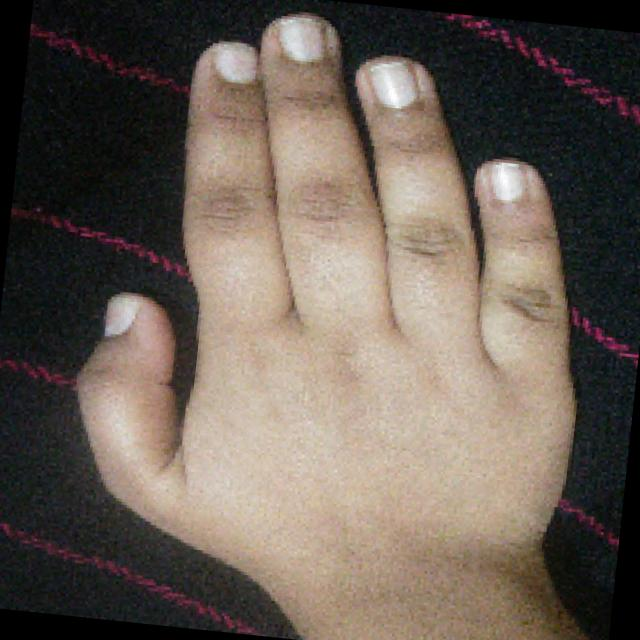Nail: (368, 57, 417, 108), (277, 13, 323, 61), (210, 40, 257, 83), (102, 292, 140, 335), (491, 161, 523, 201)
